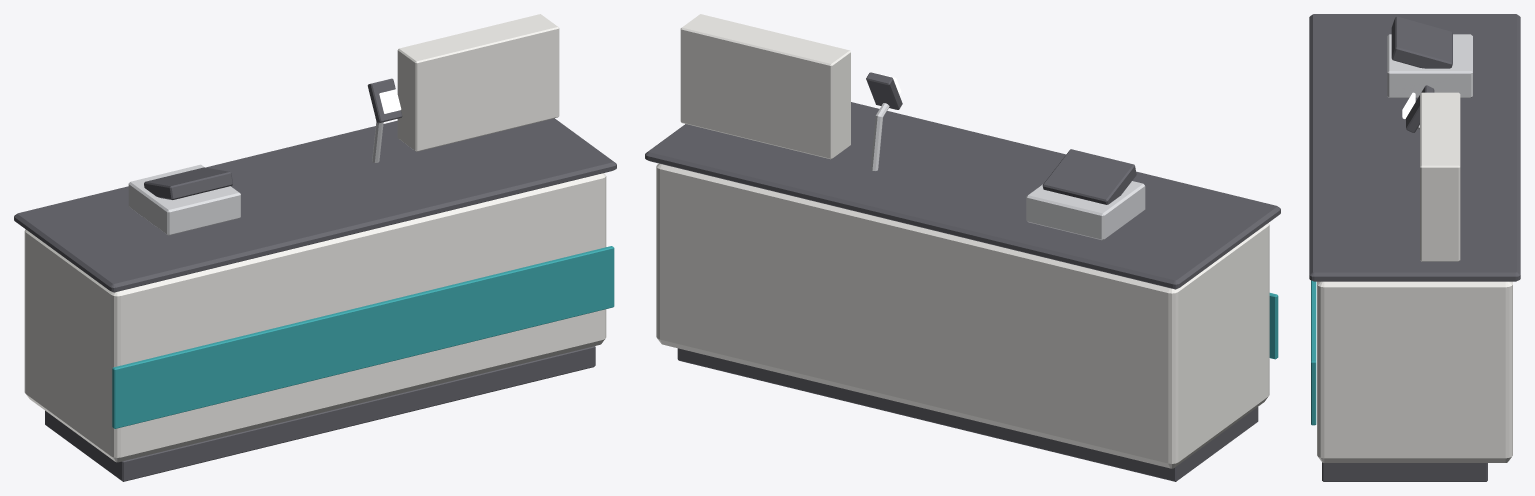
File: motorway-services-and-truck-park-shop-counter-04c8353e__35938.glb
The picture shows the model from 3 angles, left to right: view 1: azimuth 30°, elevation 25°; view 2: azimuth 150°, elevation 25°; view 3: azimuth 270°, elevation 25°; orthographic projection. The views are drawn at different scales.
Parts seen in each view (by area): view 1: shop-counter; view 2: shop-counter; view 3: shop-counter.
Part boxes in pixels (x1,y1,x2,y2): shop-counter: (14, 14, 616, 481); shop-counter: (645, 14, 1280, 481); shop-counter: (1309, 14, 1520, 481).
Bounding box in the file's own units: 2.46 × 1.41 × 0.84.
